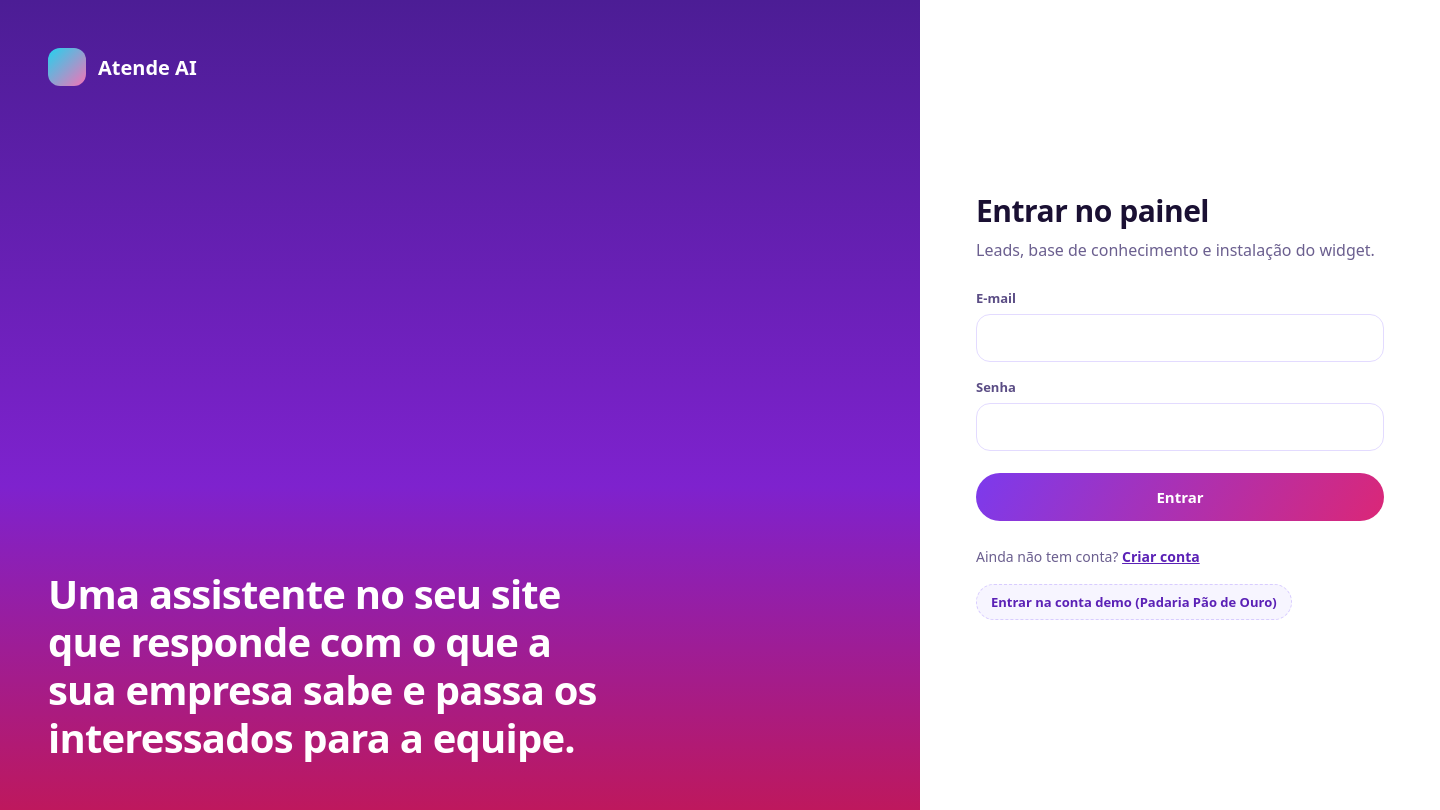
Test case: acesso › senha errada mostra a mensagem da API
The width and height of the screenshot is (1440, 810).
Type "a@b.com" into the field labelled "E-mail".
click(1180, 338); type("a@b.com")  # box [976,314,1384,362]
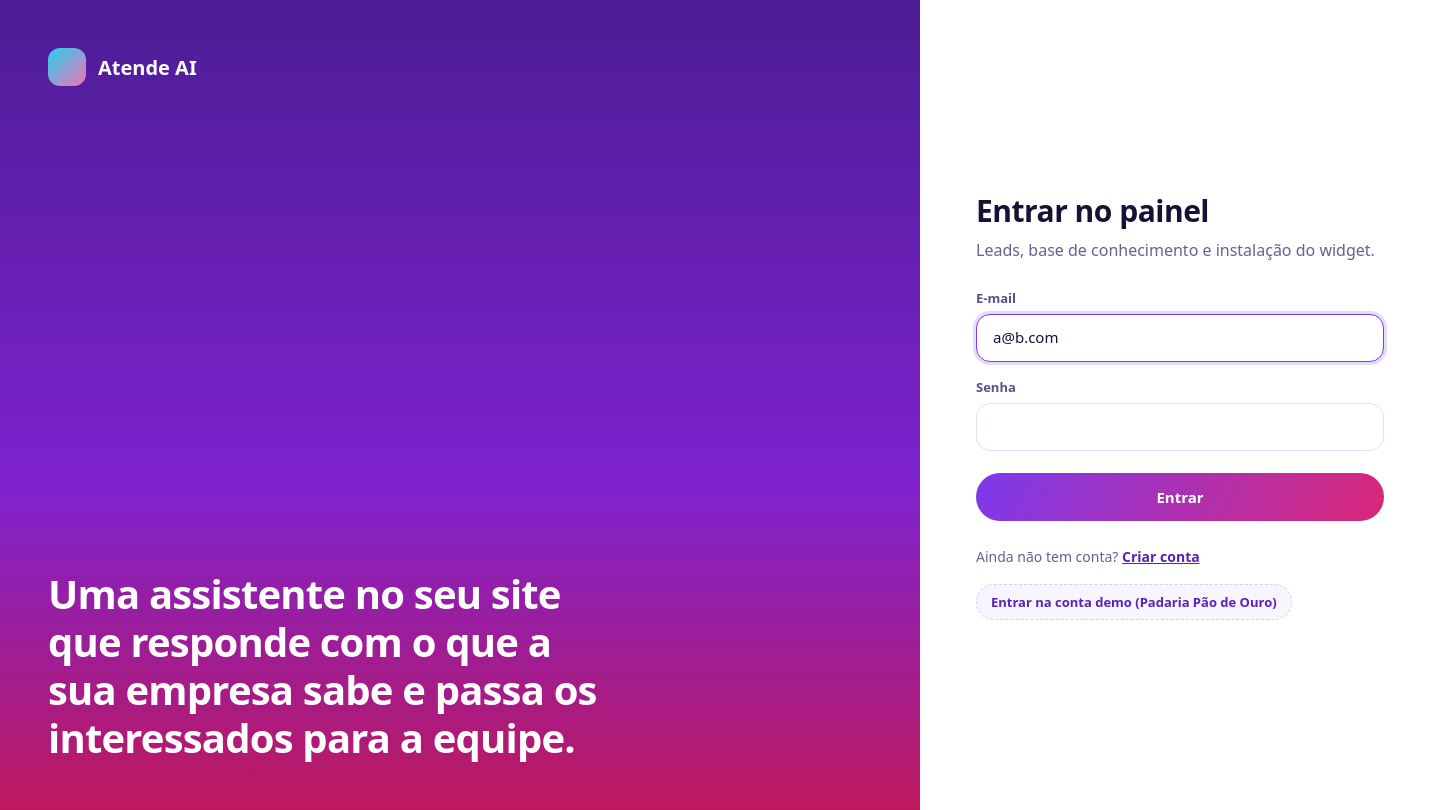
Type "x" into the password field labelled "Senha".
click(1180, 427); type("x")  # box [976,403,1384,451]
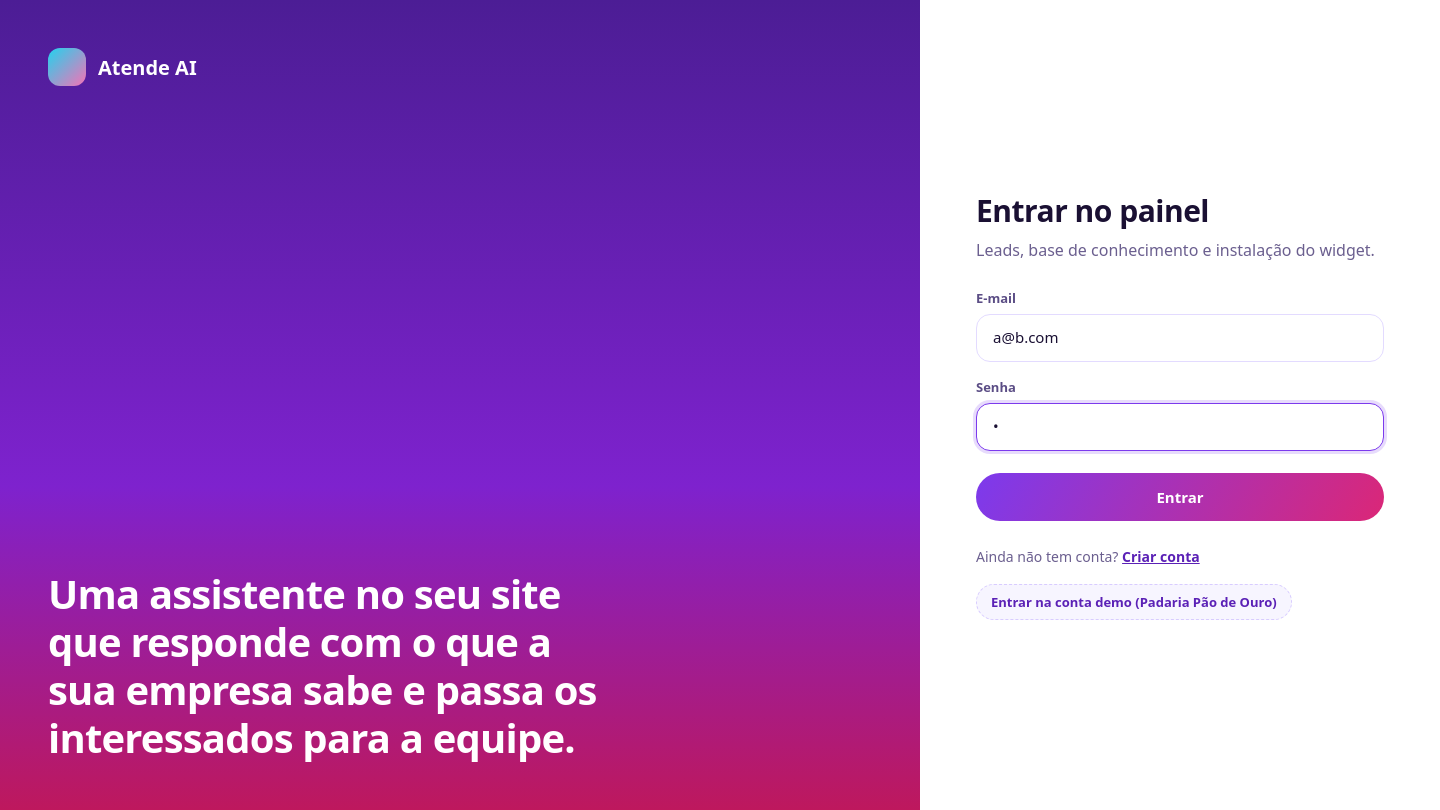
Click the button "Entrar".
click(1180, 497)  # box [976,473,1384,521]
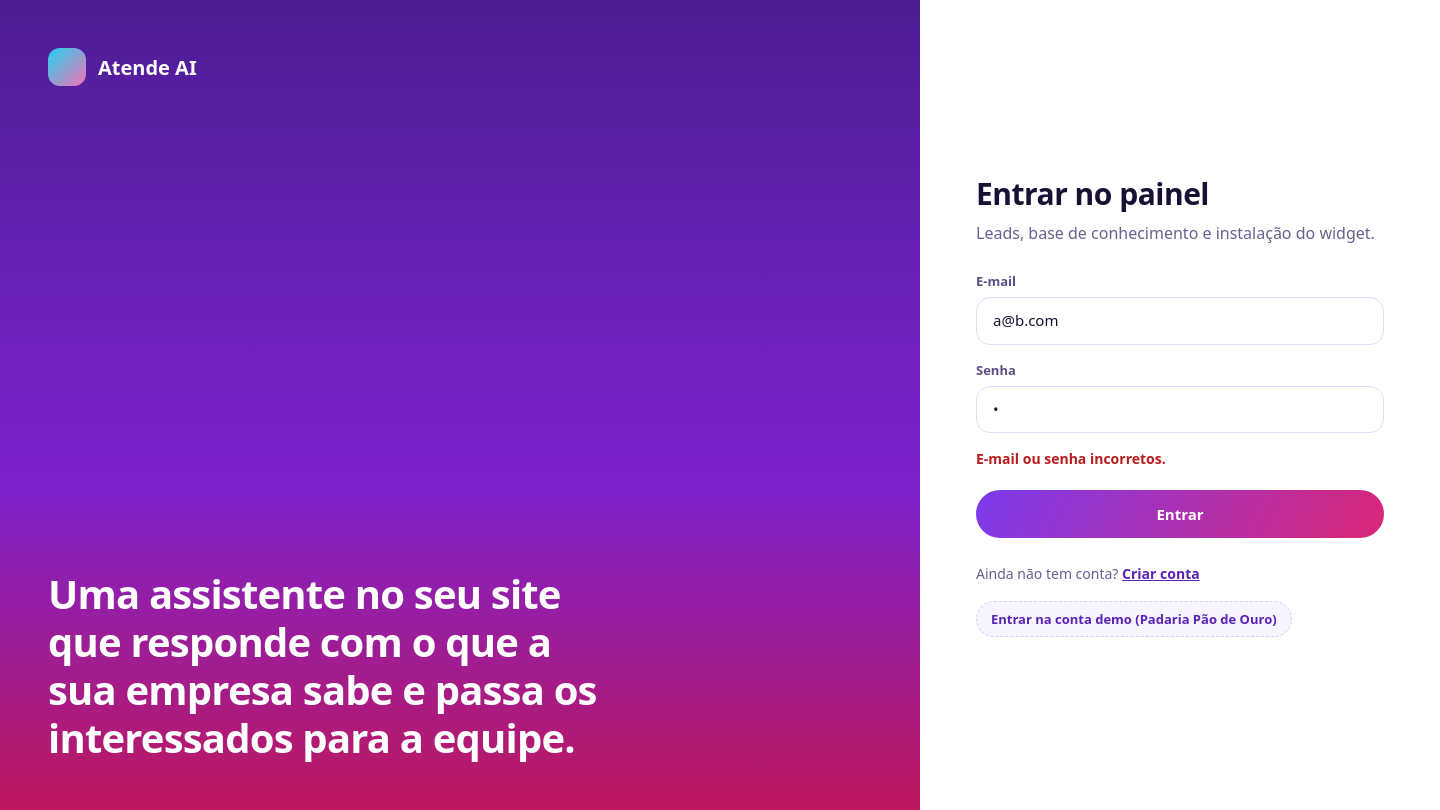
Check: the message reads "E-mail ou senha incorretos.", box [976,449,1166,468]
